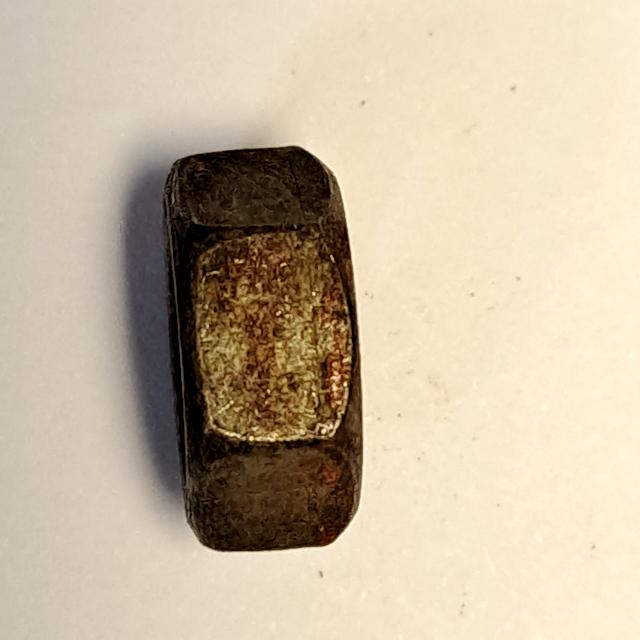Side_Rust: (149, 136, 382, 564)
